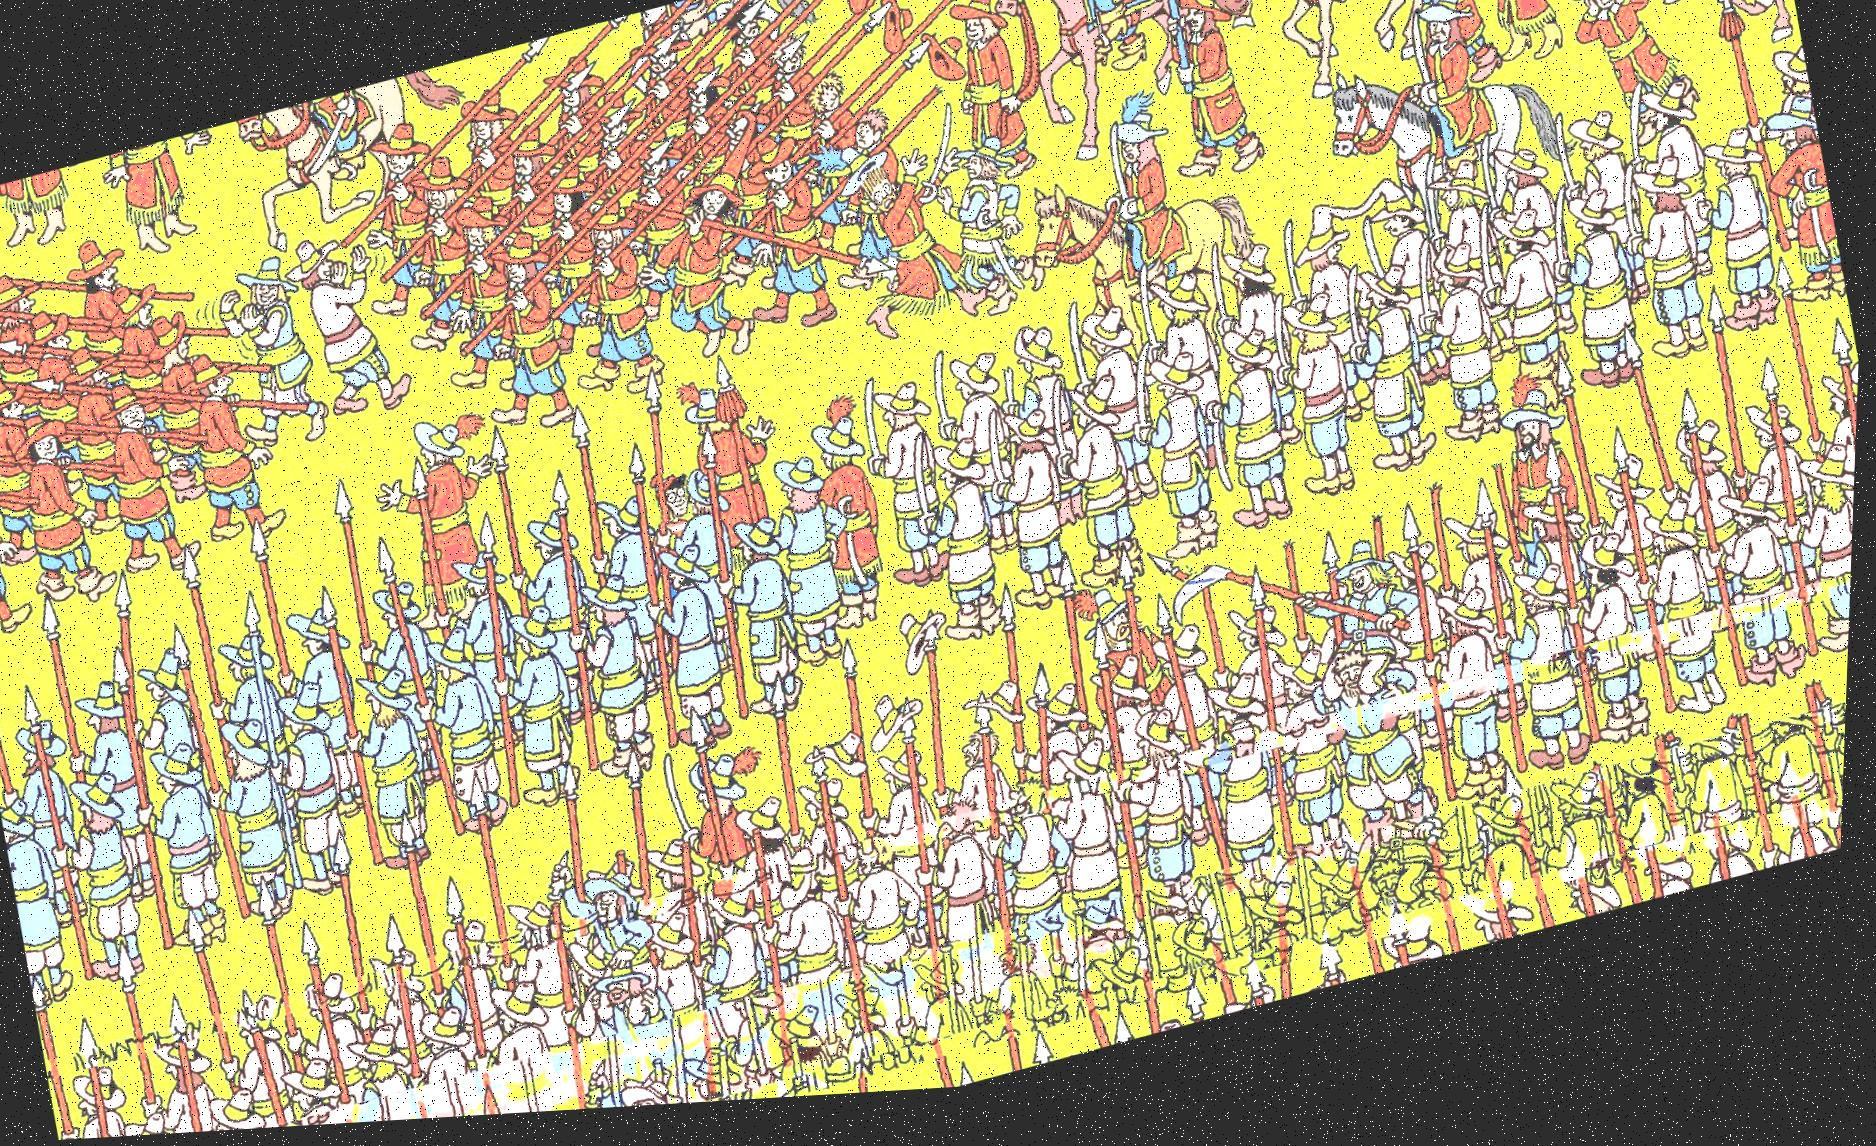waldo: (650, 474, 699, 533)
